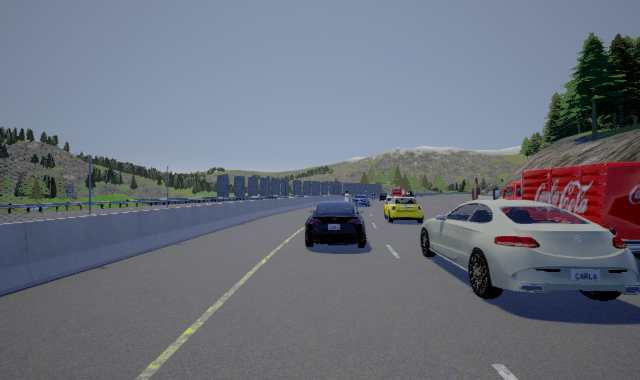vehicle: (418, 199, 640, 301), (492, 162, 640, 259), (305, 195, 370, 248), (382, 195, 430, 224)
